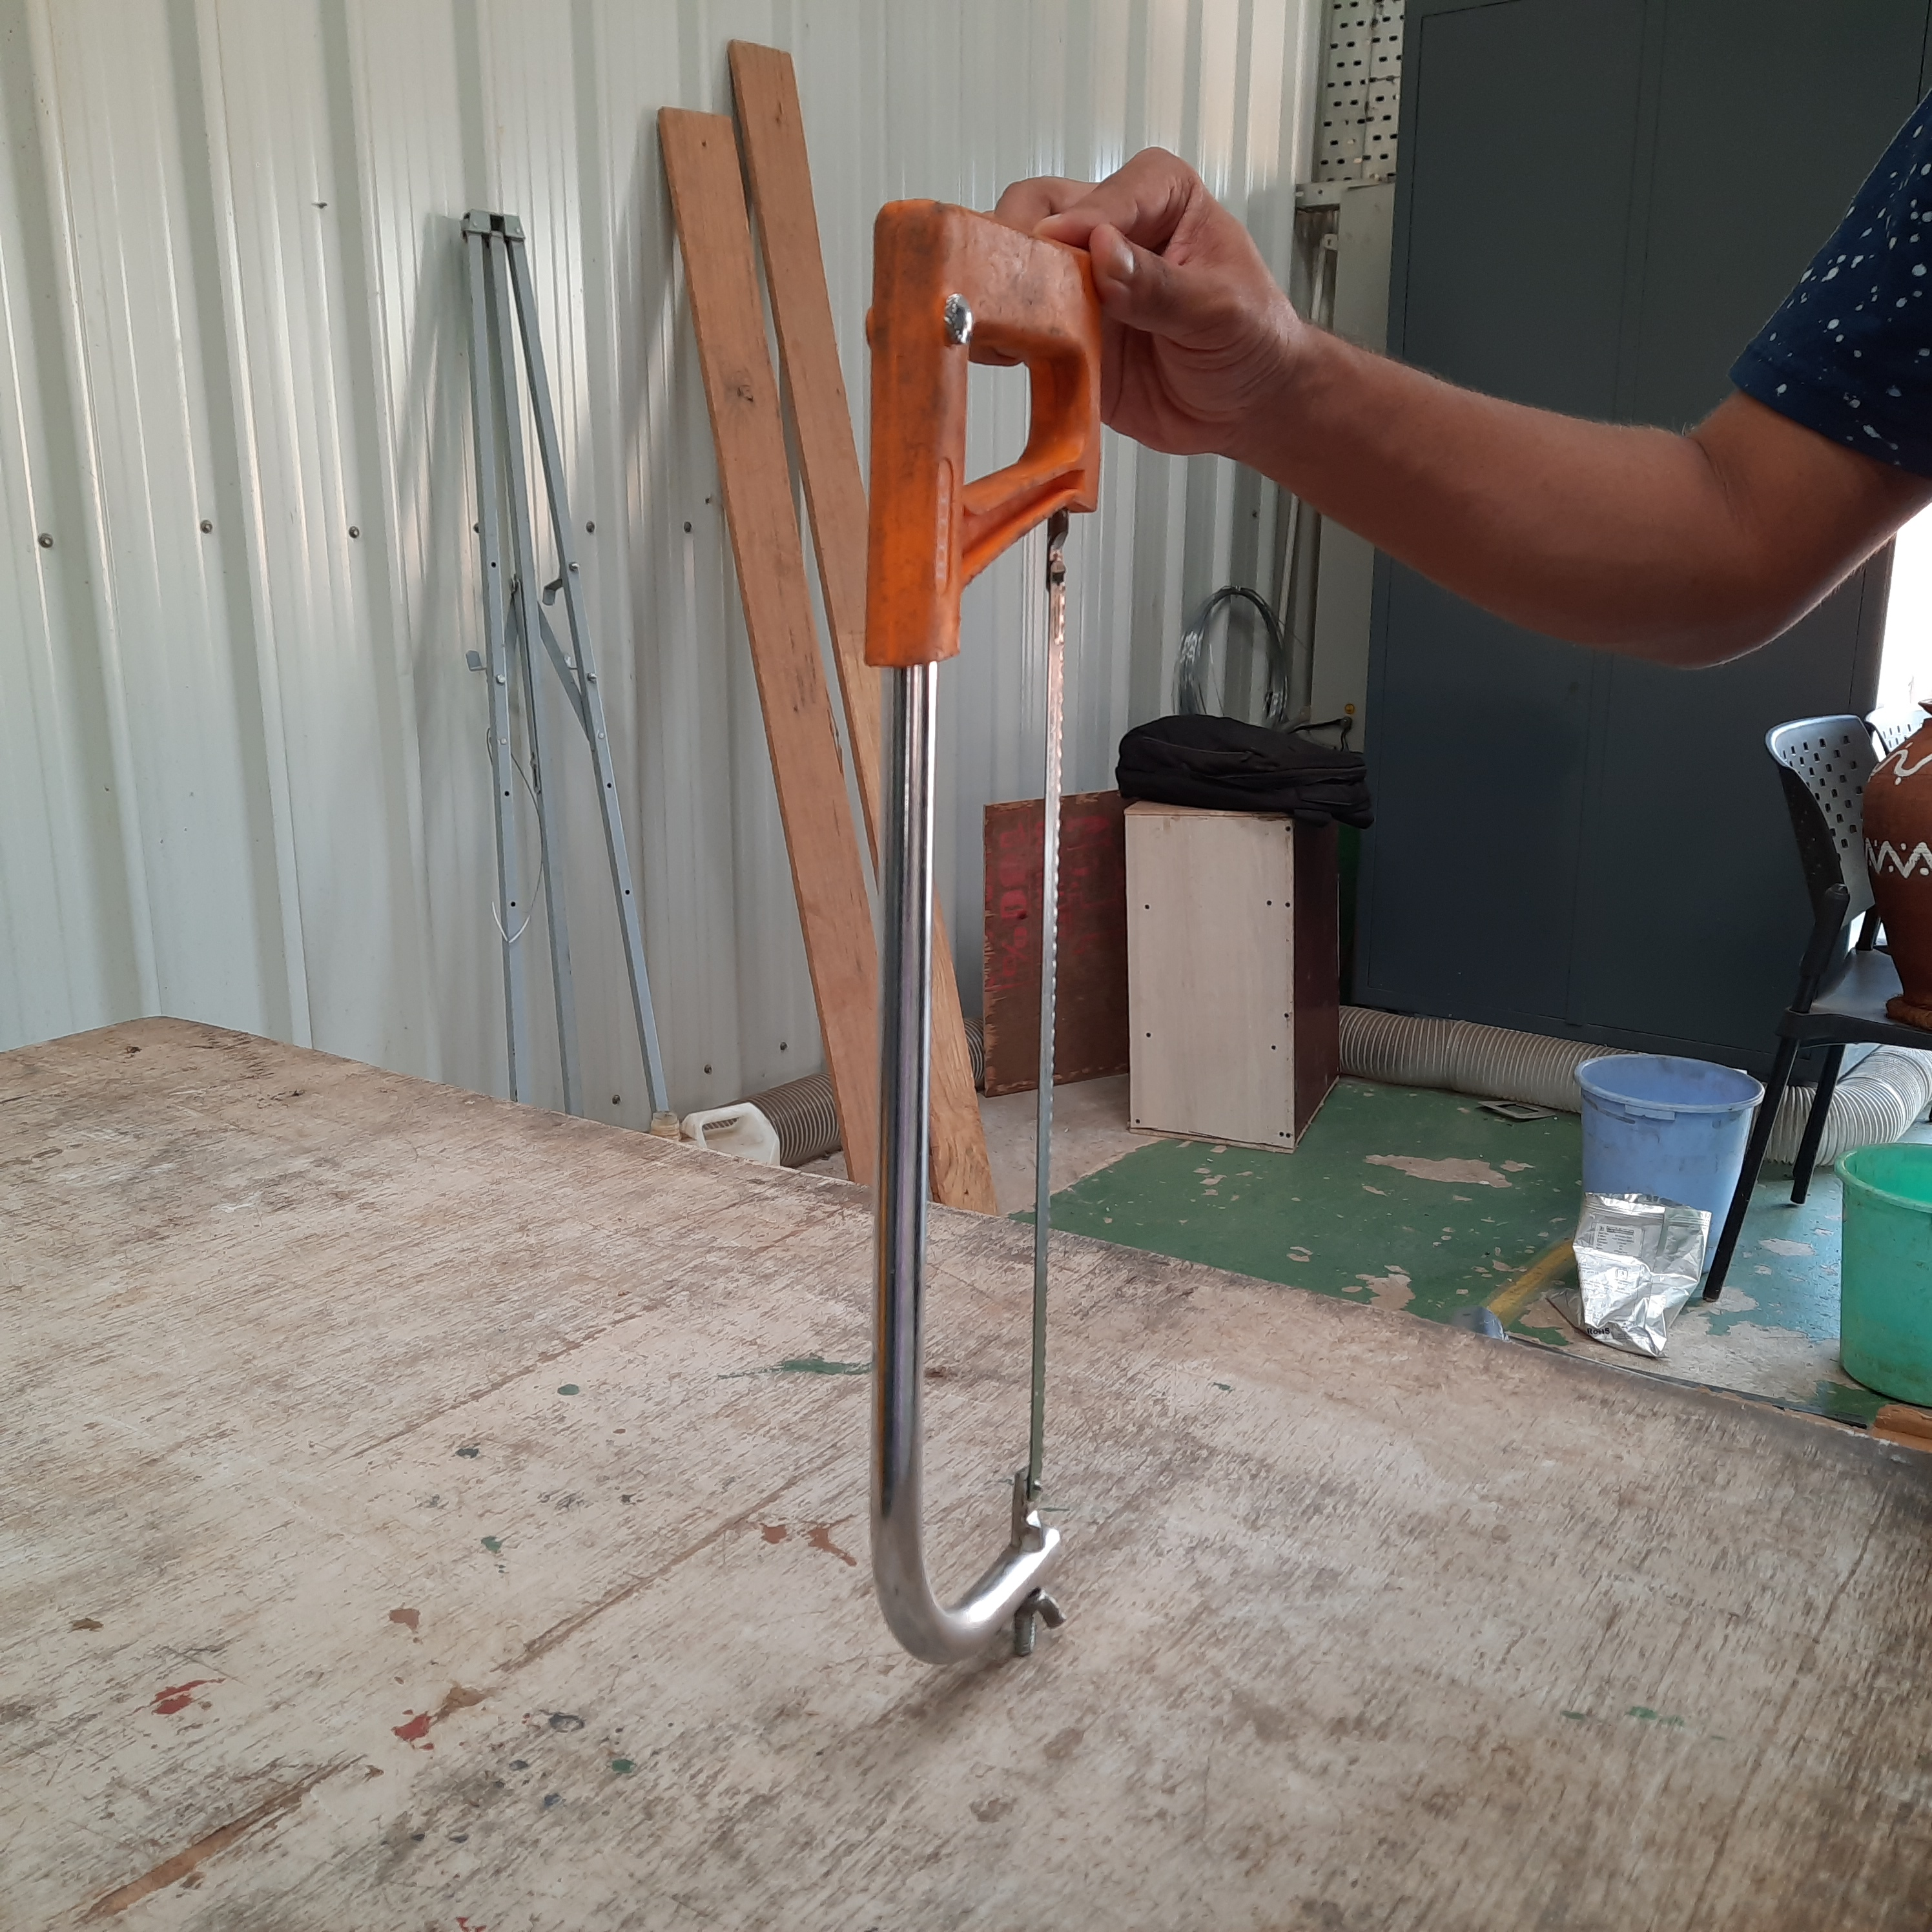Hexaframe: (844, 180, 1123, 1663)
